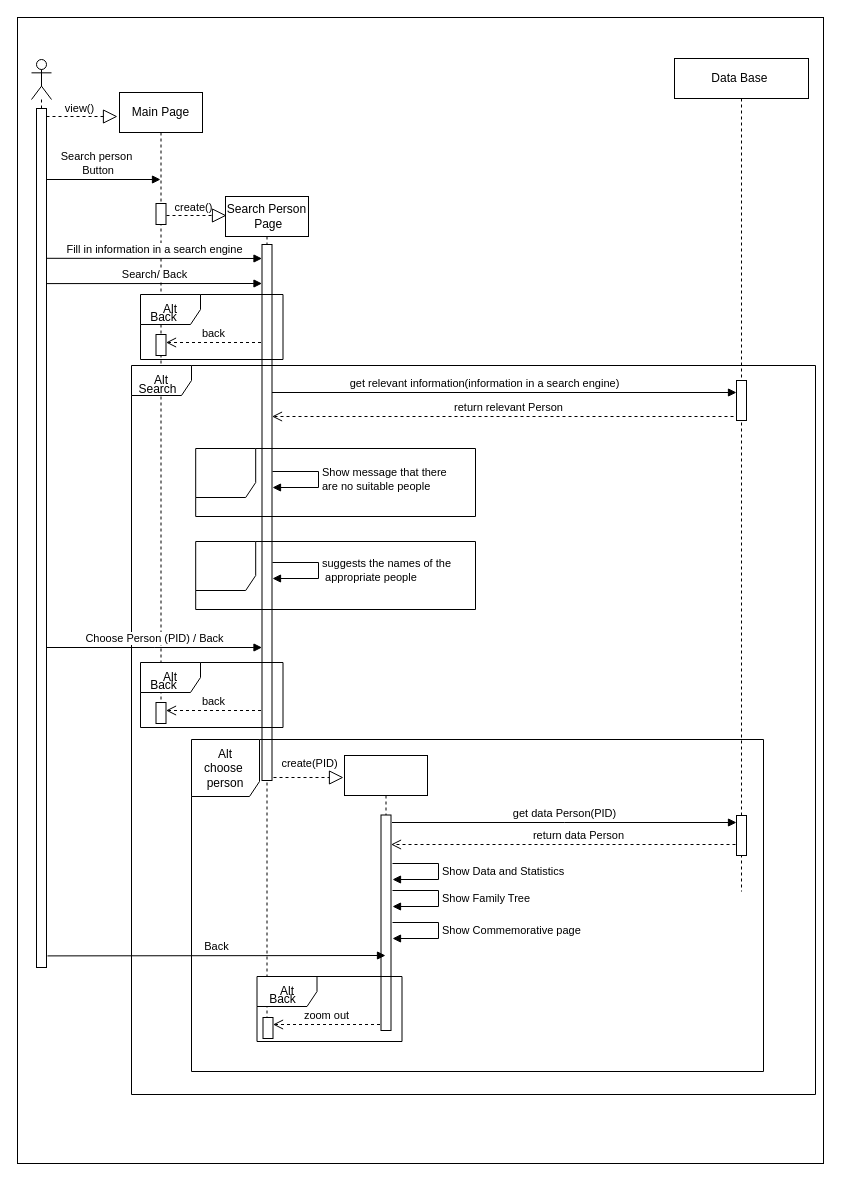
Image size: 841x1181. Some labels were removed from this diagram. Here are the shapes that lost their labels. From the top down, the box of each, then its label:
(195, 448, 476, 516): Alt not exist person
(30, 58, 52, 958): user
(195, 540, 476, 610): Alt exist person
(344, 754, 428, 1030): Person Statistics page
